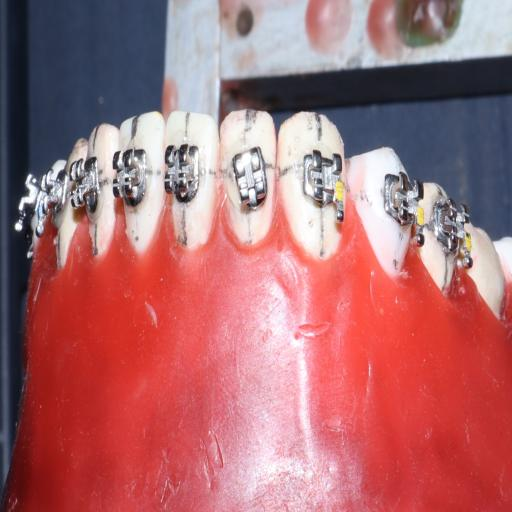correct_brace: (160, 137, 204, 207)
incorrect_brace: (219, 103, 279, 253), (298, 138, 348, 233), (227, 144, 270, 212)
